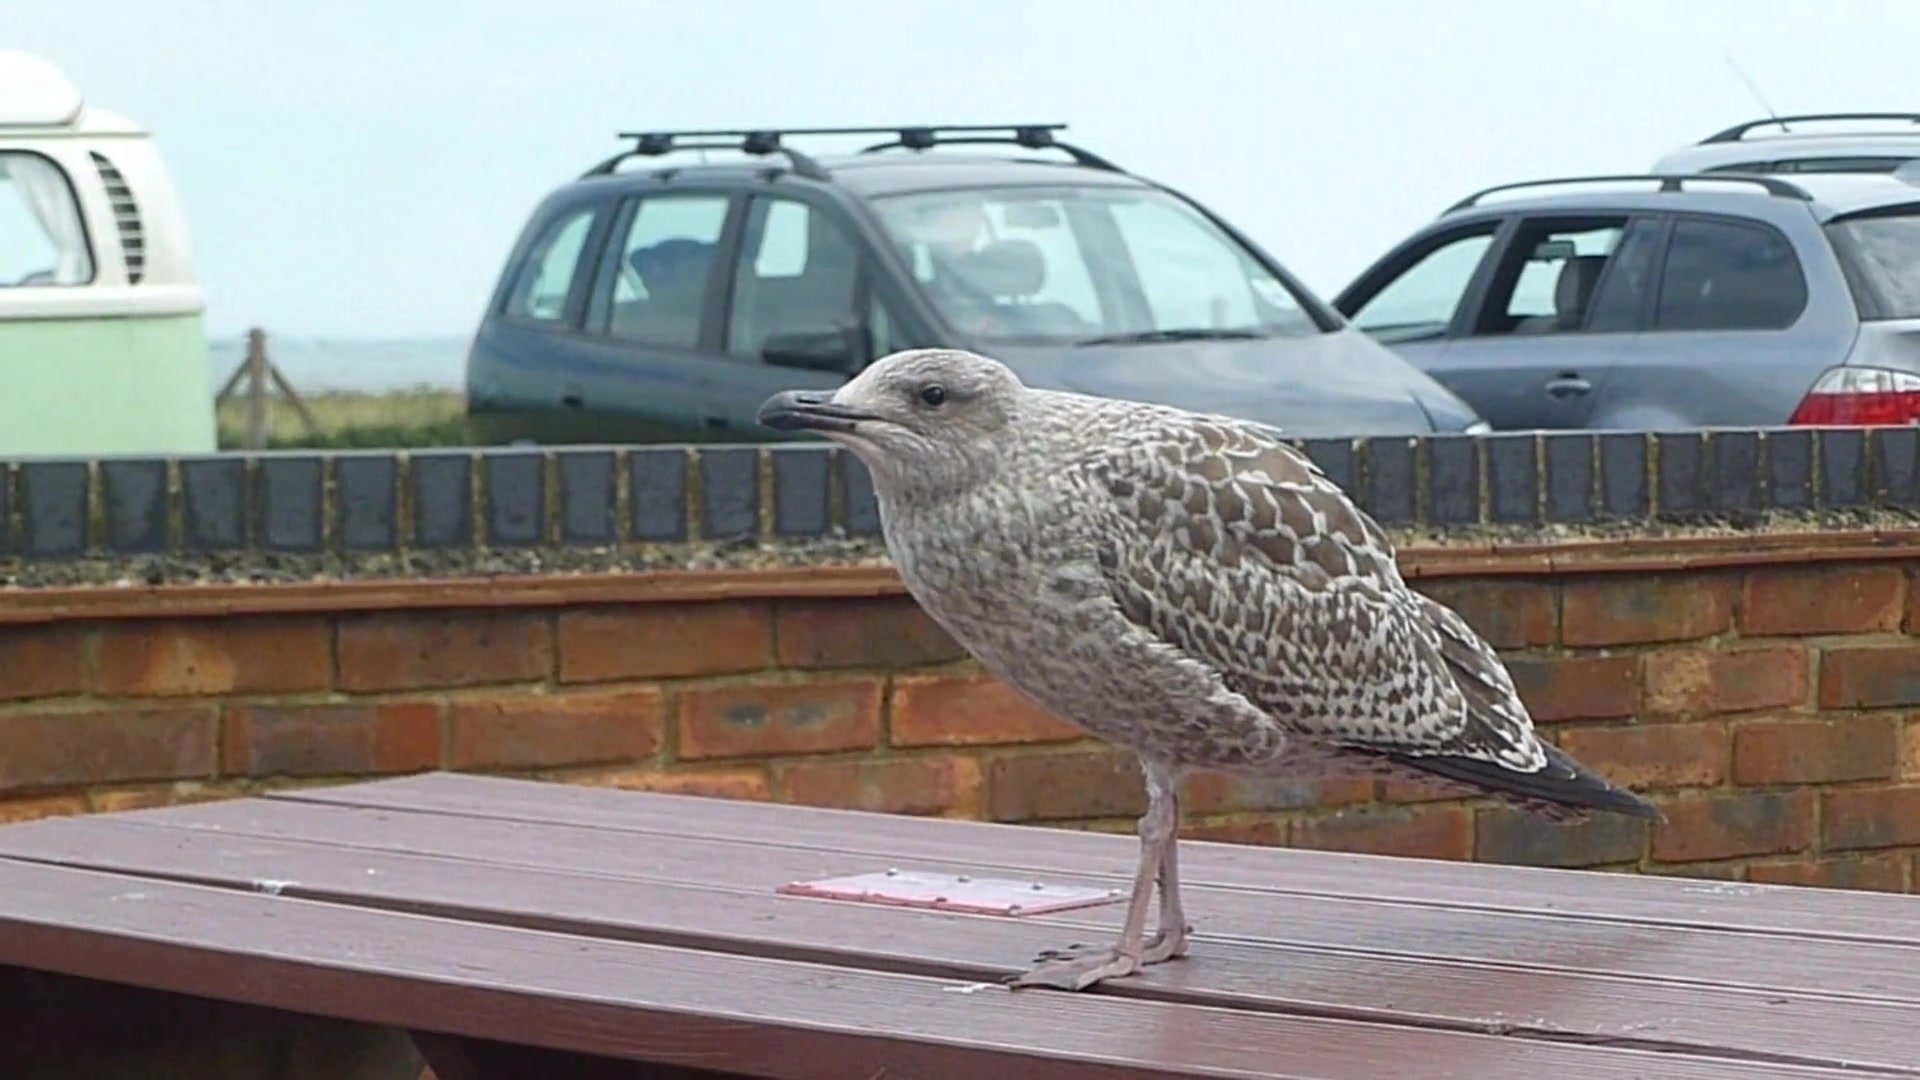bird: (754, 349, 1671, 996)
